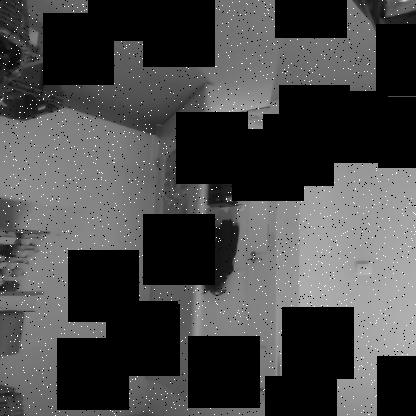Porte: (141, 81, 282, 408)
